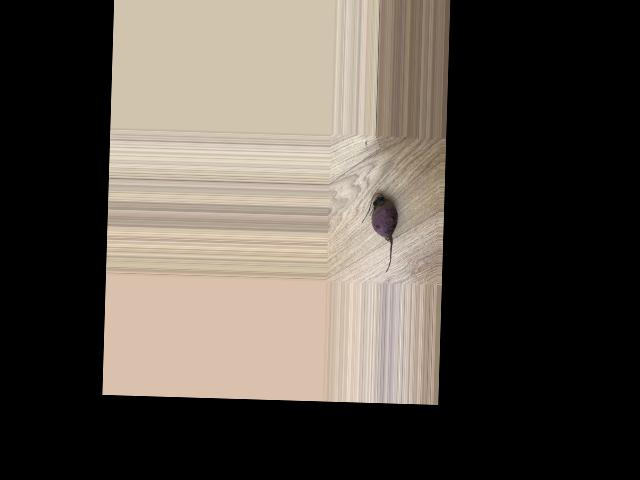beet: (360, 193, 399, 273)
